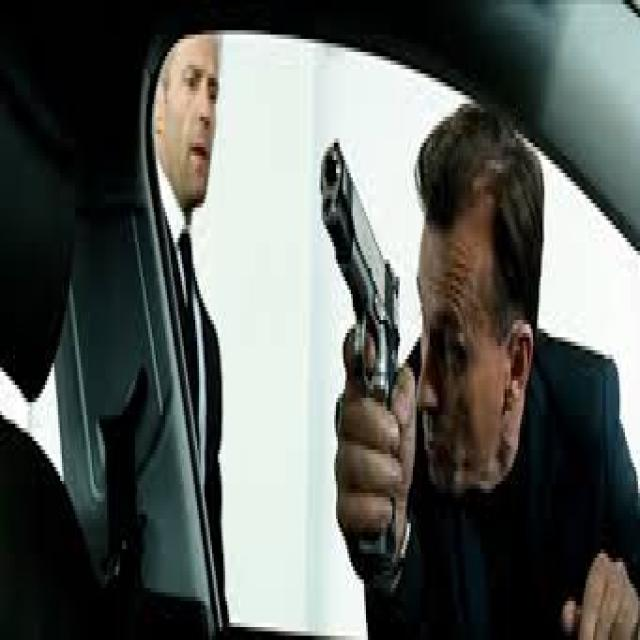gun: (310, 147, 417, 563)
